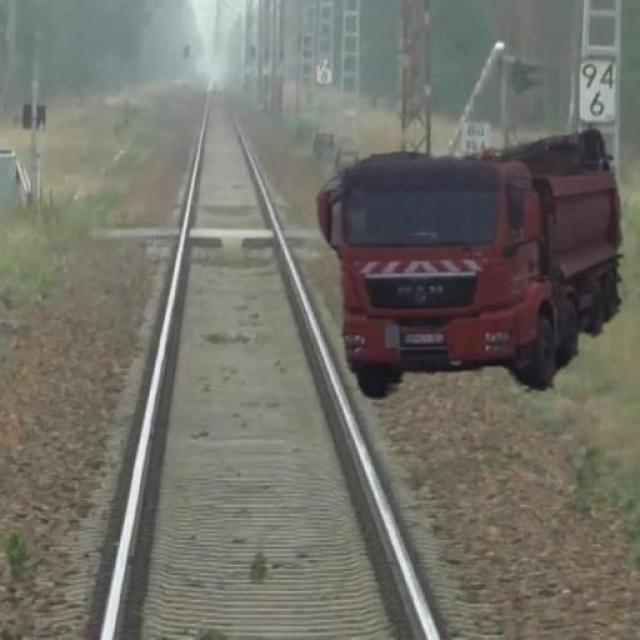vehicle: (313, 124, 630, 397)
